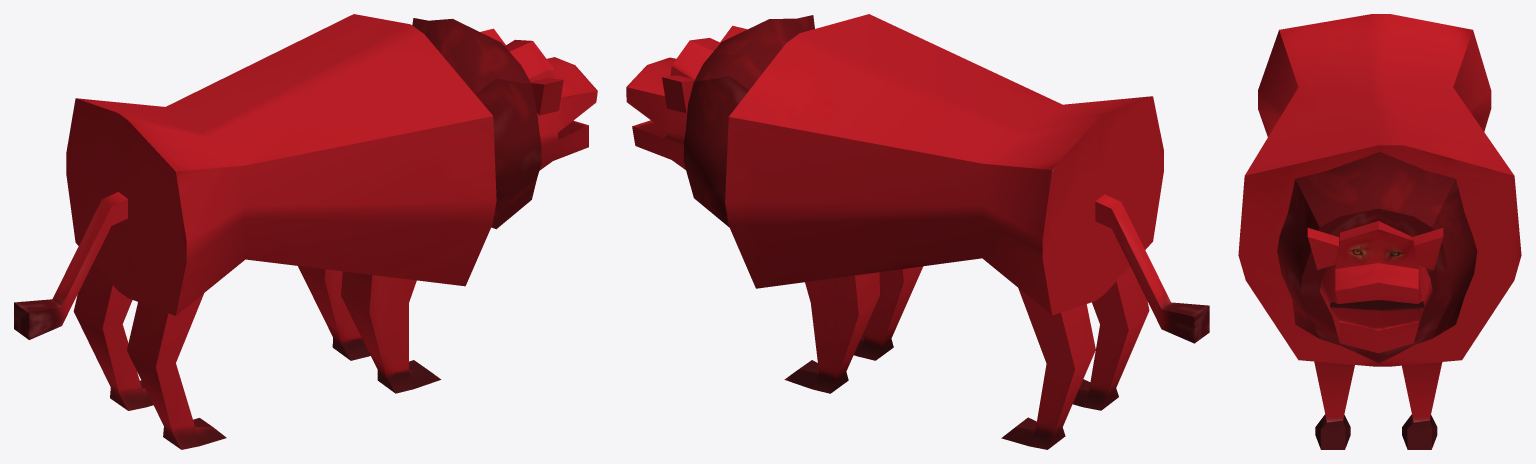
File: Lion.fbx
3 views of the same model, side by side, from view 1: azimuth 30°, elevation 25°; view 2: azimuth 150°, elevation 25°; view 3: azimuth 270°, elevation 25° (orthographic). The views are drawn at different scales.
Visible parts, largest first — view 1: pCube3, pCube1, pCube8, pCube7, pCube4, pCube5, pCube2; view 2: pCube3, pCube1, pCube4, pCube5, pCube8, pCube7, pCube6; view 3: pCube3, pCube1, pCube7, pCube5, pCube2, pCube6.
Boxes of the visible parts, <box> form: pCube3: <box>14,14,496,339</box>; pCube1: <box>412,18,597,229</box>; pCube8: <box>127,293,226,449</box>; pCube7: <box>341,271,441,393</box>; pCube4: <box>73,263,153,410</box>; pCube5: <box>298,266,370,360</box>; pCube2: <box>530,78,563,115</box>; pCube3: <box>725,14,1209,343</box>; pCube1: <box>626,15,814,227</box>; pCube4: <box>1001,288,1095,449</box>; pCube5: <box>784,272,879,393</box>; pCube8: <box>1073,266,1149,410</box>; pCube7: <box>854,266,923,360</box>; pCube6: <box>662,75,694,113</box>; pCube3: <box>1238,14,1521,366</box>; pCube1: <box>1277,152,1477,363</box>; pCube7: <box>1314,361,1354,449</box>; pCube5: <box>1402,362,1442,449</box>; pCube2: <box>1307,228,1339,270</box>; pCube6: <box>1411,228,1443,270</box>.
Size of the model in its own units: 78.9 by 45.07 by 36.19.
Materials: 1 (1 with a texture image).
